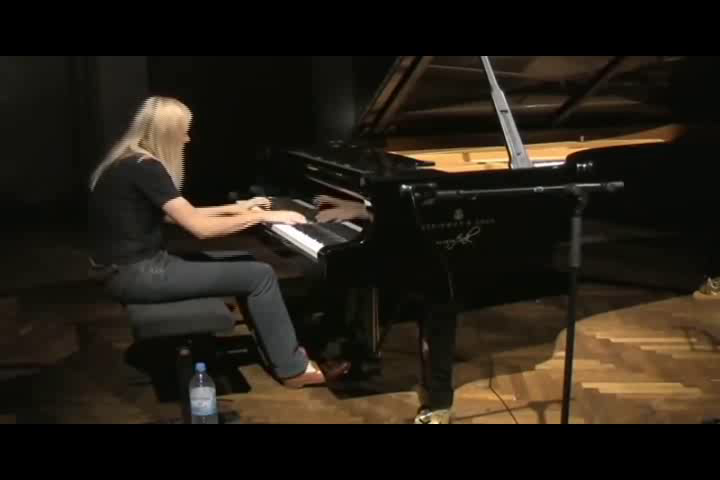keyboard: (226, 175, 367, 265)
